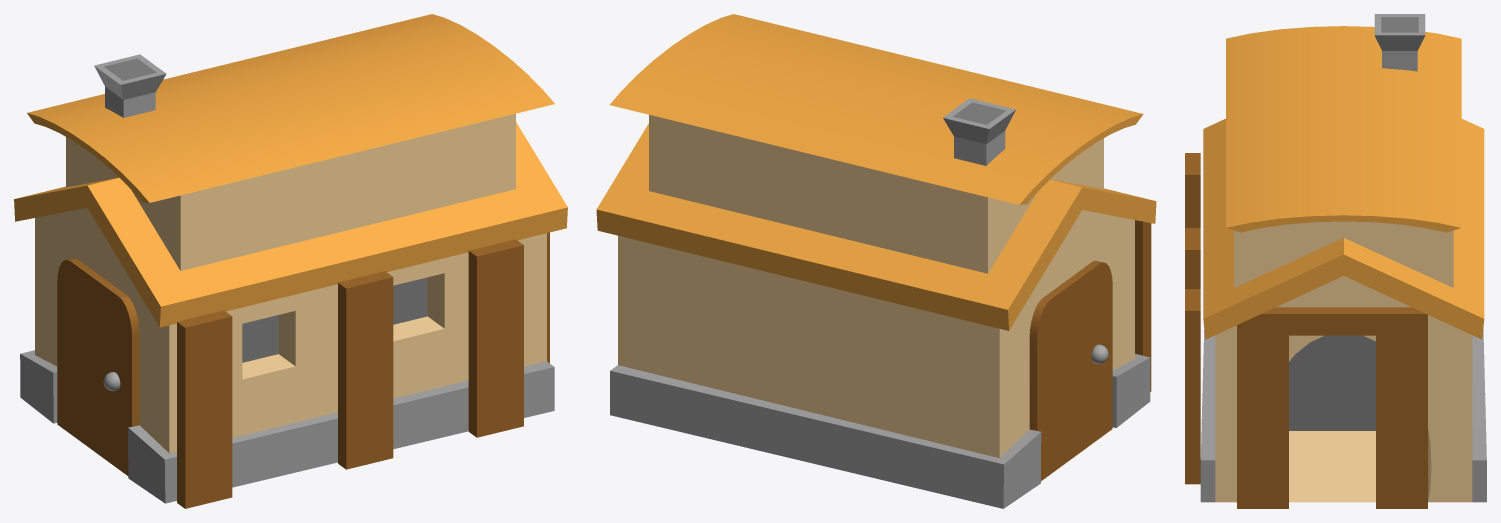
Rendered from bbcoc.fbx.
3 renders of one model, left to right at view 1: azimuth 30°, elevation 25°; view 2: azimuth 150°, elevation 25°; view 3: azimuth 270°, elevation 25°, orthographic. The views are drawn at different scales.
Visible parts, largest first — view 1: bbbinasi, bbbinasi.001, bbbinasi.002, bbbinasi.003, bbbinasi.006, bbinasikapi, bbbinasi.011, bbbinasi.009, bbbinasi.010, bbbinasi.013, bbbinasi.004, bbbinasi.005; view 2: bbbinasi.001, bbbinasi, bbbinasi.002, bbbinasi.003, bbbinasi.006, bbinasikapi, bbbinasi.004, bbbinasi.011, bbbinasi.005; view 3: bbbinasi, bbbinasi.001, bbbinasi.002, bbbinasi.007, bbbinasi.012, bbbinasi.003, bbbinasi.014, bbbinasi.008, bbbinasi.006, bbbinasi.009, bbbinasi.004, bbbinasi.011 (+2 smaller).
Part boxes in pixels (x1,y1,x2,y2): bbbinasi: (27, 14, 554, 202); bbbinasi.001: (35, 208, 546, 453); bbbinasi.002: (14, 122, 567, 327); bbbinasi.003: (66, 113, 515, 270); bbbinasi.006: (20, 350, 554, 503); bbinasikapi: (57, 258, 139, 475); bbbinasi.011: (177, 310, 232, 508); bbbinasi.009: (468, 239, 523, 437); bbbinasi.010: (338, 271, 393, 469); bbbinasi.013: (242, 277, 427, 362); bbbinasi.004: (94, 54, 166, 117); bbbinasi.005: (104, 58, 156, 80); bbbinasi.001: (618, 210, 1134, 457); bbbinasi: (609, 14, 1143, 204); bbbinasi.002: (596, 123, 1156, 330); bbbinasi.003: (649, 115, 1103, 273); bbbinasi.006: (610, 353, 1150, 508); bbinasikapi: (1029, 260, 1112, 480); bbbinasi.004: (943, 98, 1015, 165); bbbinasi.011: (1135, 220, 1151, 391); bbbinasi.005: (953, 102, 1005, 124); bbbinasi: (1226, 26, 1461, 232); bbbinasi.001: (1215, 276, 1472, 502); bbbinasi.002: (1203, 118, 1484, 339); bbbinasi.007: (1376, 335, 1427, 508); bbbinasi.012: (1237, 335, 1288, 508); bbbinasi.003: (1234, 221, 1453, 287); bbbinasi.014: (1289, 335, 1375, 430); bbbinasi.008: (1237, 307, 1427, 335); bbbinasi.006: (1200, 329, 1486, 502); bbbinasi.009: (1185, 289, 1200, 484); bbbinasi.004: (1374, 14, 1425, 71); bbbinasi.011: (1185, 153, 1200, 227).
Bounding box in the file's own units: 1078 × 865 × 717.
